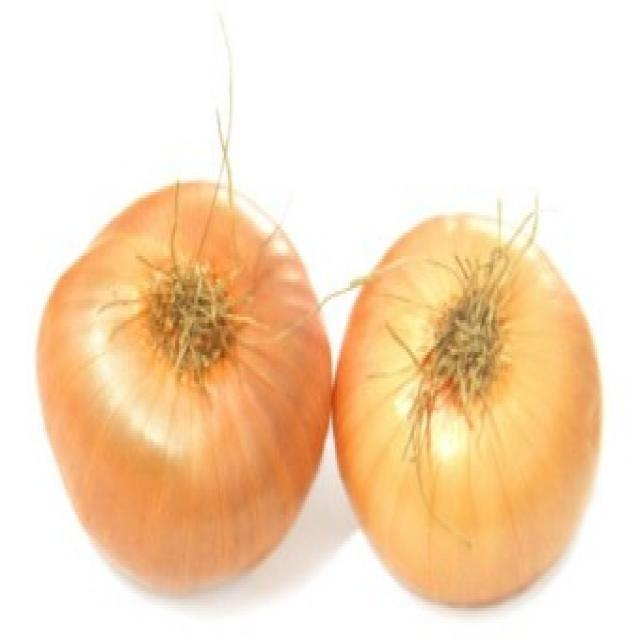onion: (35, 179, 333, 601), (330, 215, 604, 610)
